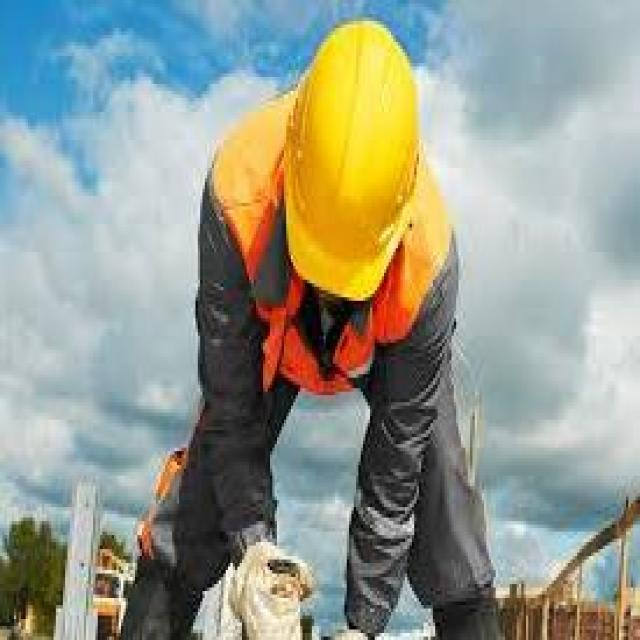Safety-Helmet: (274, 21, 433, 311)
